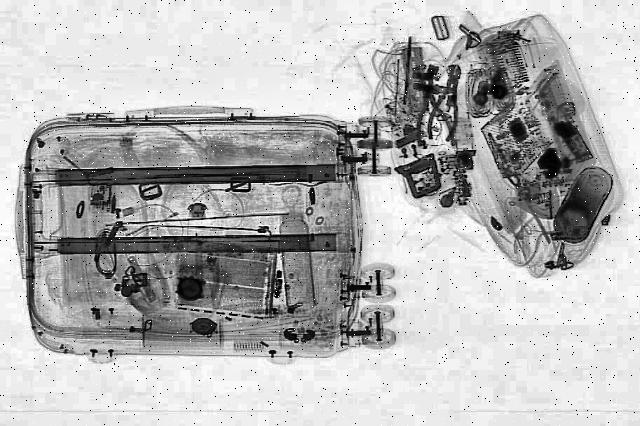Pliers: (420, 64, 476, 144), (404, 80, 456, 148)
